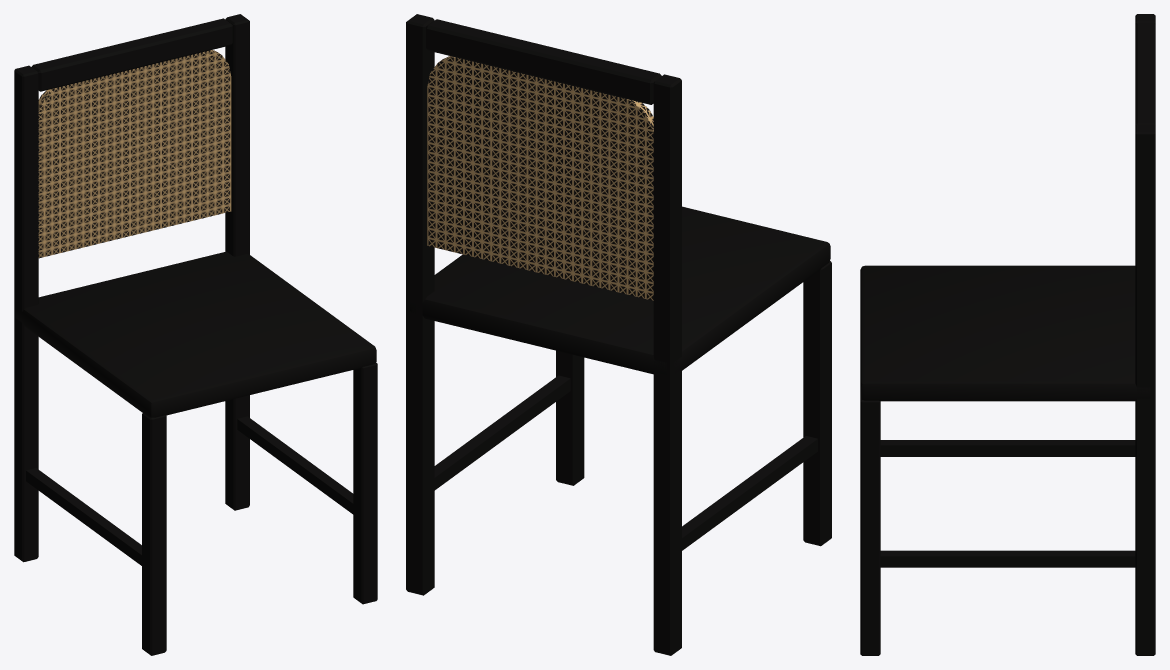
File: chair.glb
3 views of the same model, side by side, from view 1: azimuth 30°, elevation 25°; view 2: azimuth 150°, elevation 25°; view 3: azimuth 270°, elevation 25° (orthographic). The views are drawn at different scales.
Parts seen in each view (by area): view 1: chair; view 2: chair; view 3: chair.
Boxes of the visible parts, x1,y1,x2,y2 form: chair: (14,14,377,655); chair: (406,14,831,655); chair: (860,14,1155,655).
Bounding box in the file's own units: 0.44 × 0.9 × 0.46.
2 materials, 1 textured.
